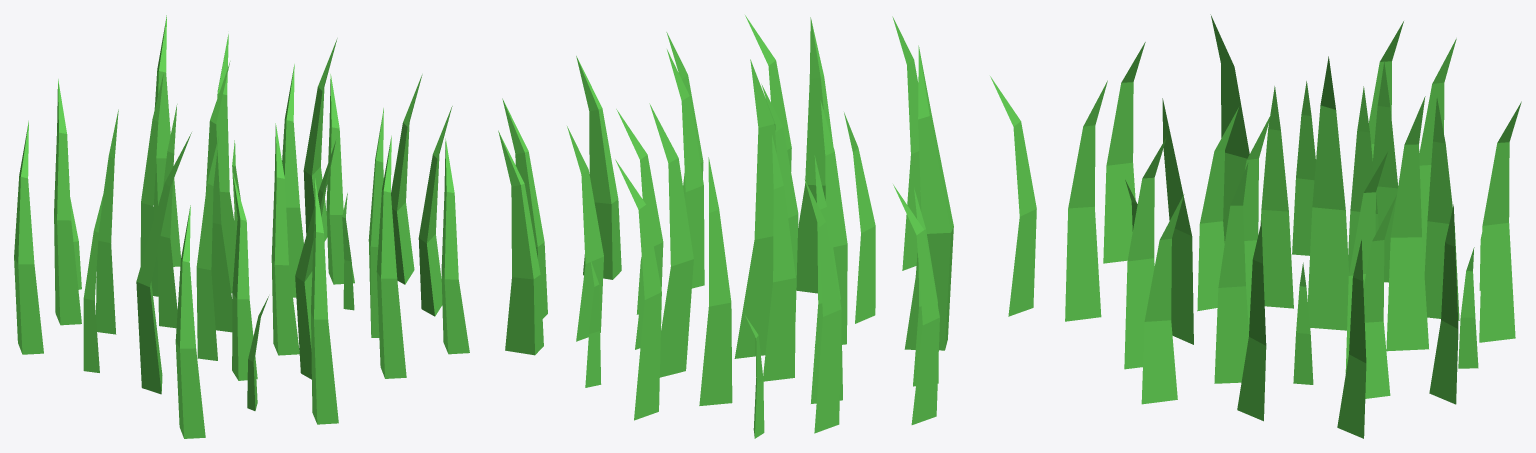
File: Grass.fbx
3 views of the same model, side by side, from view 1: azimuth 30°, elevation 25°; view 2: azimuth 150°, elevation 25°; view 3: azimuth 270°, elevation 25° (orthographic). The views are drawn at different scales.
Parts seen in each view (by area): view 1: Cone.005; view 2: Cone.005; view 3: Cone.005.
Part boxes in pixels (box(x1,y1,x2,y2)): Cone.005: box(14, 15, 469, 438); Cone.005: box(498, 15, 1036, 438); Cone.005: box(1065, 14, 1521, 438).
Size of the model in its own units: 196 by 127 by 187.
